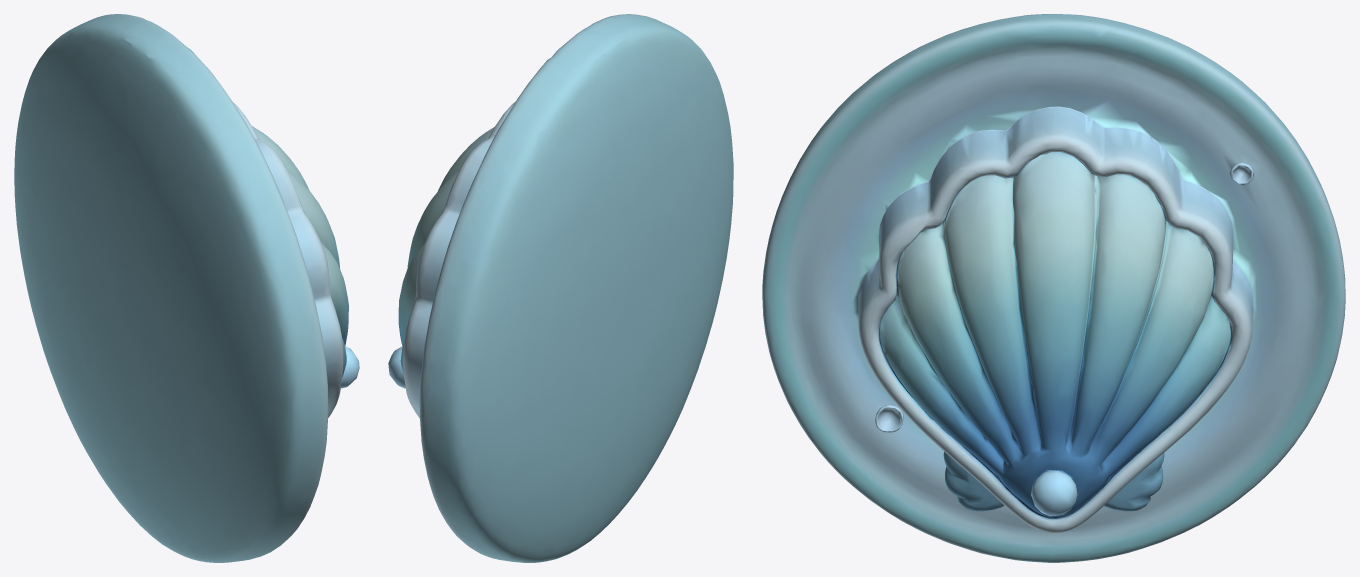
Rendered from shell.glb.
3 views of the same model, side by side, from view 1: azimuth 30°, elevation 25°; view 2: azimuth 150°, elevation 25°; view 3: azimuth 270°, elevation 25° (orthographic). The views are drawn at different scales.
Parts seen in each view (by area): view 1: tripo_node_1d911f54-1461-4d03-a2af-6c266061b0cf; view 2: tripo_node_1d911f54-1461-4d03-a2af-6c266061b0cf; view 3: tripo_node_1d911f54-1461-4d03-a2af-6c266061b0cf.
Boxes of the visible parts, box(x1,y1,x2,y2) form: tripo_node_1d911f54-1461-4d03-a2af-6c266061b0cf: box(14, 14, 359, 562); tripo_node_1d911f54-1461-4d03-a2af-6c266061b0cf: box(388, 14, 733, 562); tripo_node_1d911f54-1461-4d03-a2af-6c266061b0cf: box(762, 14, 1345, 562).
Bounding box in the file's own units: 0.4782 × 0.9806 × 0.9781.
1 material, 1 textured.
